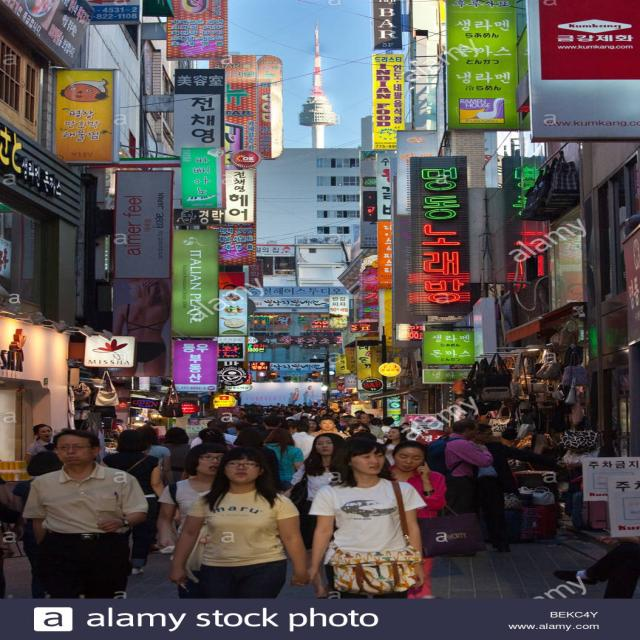body: (288, 435, 429, 600), (19, 428, 150, 599), (167, 444, 312, 598), (469, 422, 572, 554), (197, 385, 408, 441), (97, 429, 166, 576), (384, 440, 447, 600), (152, 441, 231, 561), (281, 432, 350, 548), (11, 450, 64, 590), (425, 418, 494, 520), (551, 535, 640, 600), (262, 427, 305, 493), (132, 425, 177, 487), (155, 426, 192, 487), (24, 423, 56, 466), (286, 419, 318, 462), (452, 396, 468, 421)
